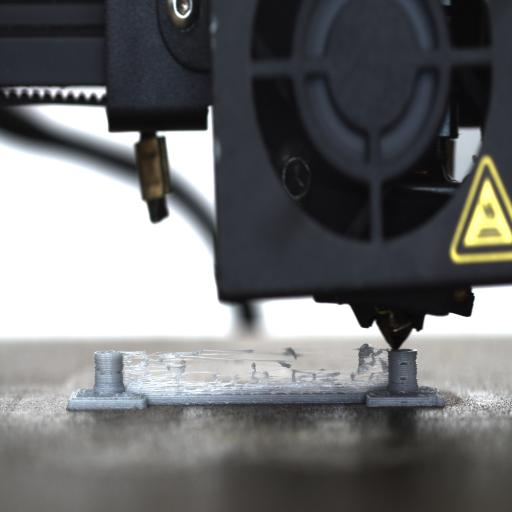stringing: (140, 348, 307, 390)
